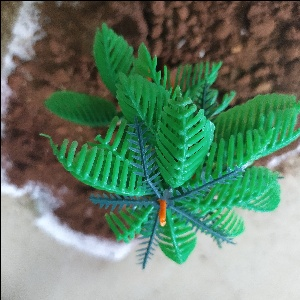plant: (46, 47, 278, 247)
